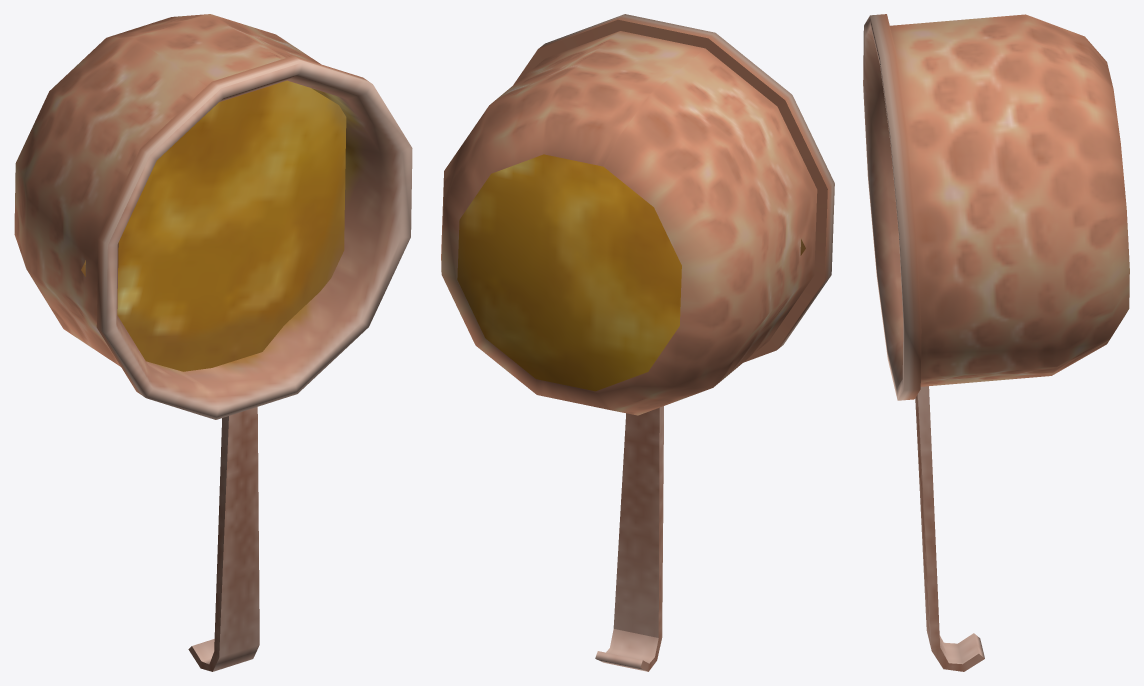
The model's file is C_SaucepanOil_Copper.fbx.
3 views of the same model, side by side, from view 1: azimuth 30°, elevation 25°; view 2: azimuth 150°, elevation 25°; view 3: azimuth 270°, elevation 25° (orthographic).
Visible parts, largest first — view 1: SaucePan_Copper; view 2: SaucePan_Copper; view 3: SaucePan_Copper.
Boxes of the visible parts, <box> form: SaucePan_Copper: <box>14,14,412,671</box>; SaucePan_Copper: <box>441,14,834,671</box>; SaucePan_Copper: <box>863,14,1129,671</box>.
Size of the model in its own units: 37.48 by 68.02 by 26.25.
